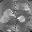people: (0, 15, 10, 24), (4, 8, 15, 16), (17, 15, 25, 23)
